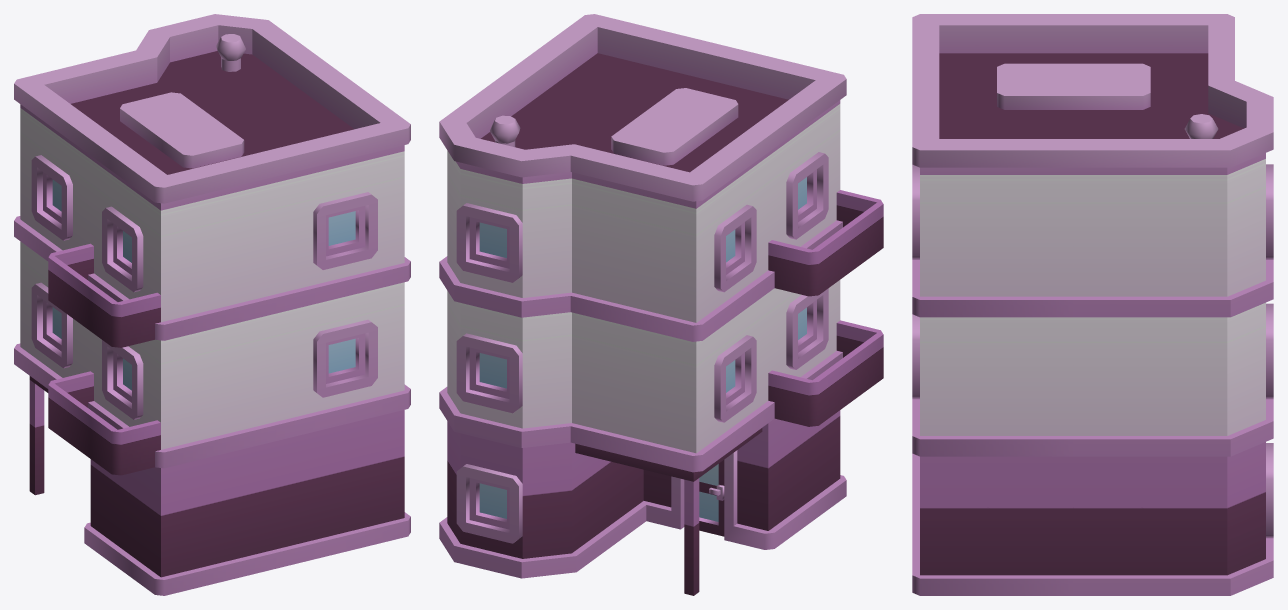
Rendered from shop_3story_fire_escape.obj.
3 renders of one model, left to right at view 1: azimuth 30°, elevation 25°; view 2: azimuth 150°, elevation 25°; view 3: azimuth 270°, elevation 25°, orthographic. The views are drawn at different scales.
Visible parts, largest first — view 1: building-b; view 2: building-b; view 3: building-b.
Part boxes in pixels (x1,y1,x2,y2): building-b: (14,14,410,595); building-b: (439,14,883,595); building-b: (912,14,1273,595).
Size of the model in its own units: 19.4 by 25.86 by 18.8.
Materials: 1 (1 with a texture image).
